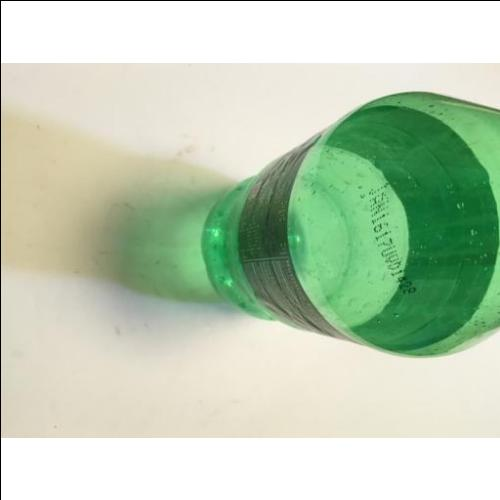plastic: (201, 93, 499, 355)
